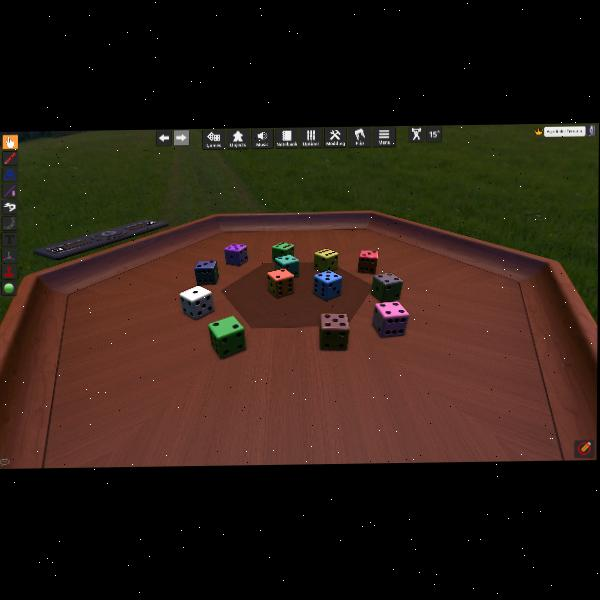d6: (208, 315, 245, 358), (372, 301, 409, 337), (180, 284, 214, 320), (320, 313, 349, 351), (371, 272, 402, 302), (267, 267, 294, 297), (312, 269, 336, 299), (193, 260, 219, 286), (274, 254, 298, 277), (224, 243, 247, 266), (313, 248, 335, 272), (358, 249, 378, 274), (272, 242, 294, 263)
